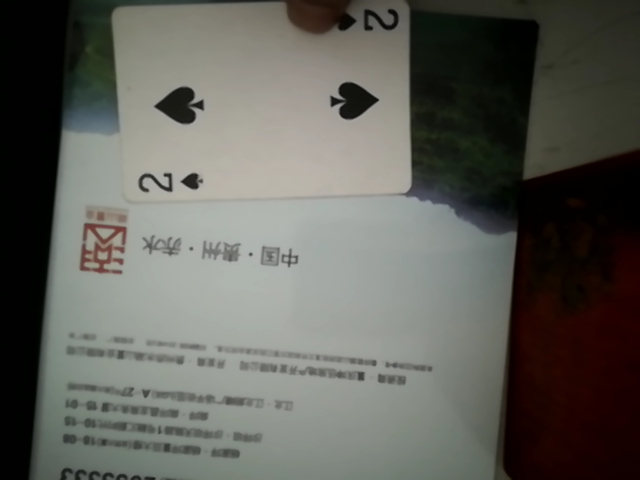ht 2: (110, 1, 413, 217)
